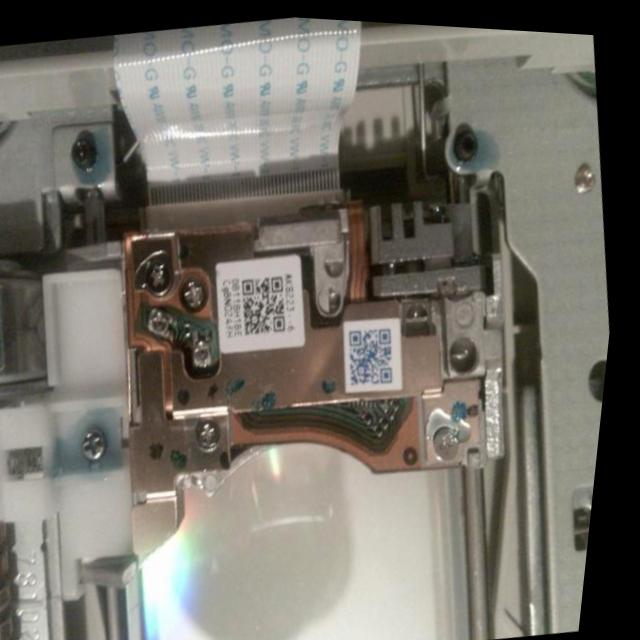qrcode: (350, 322, 405, 385), (243, 272, 296, 335)
